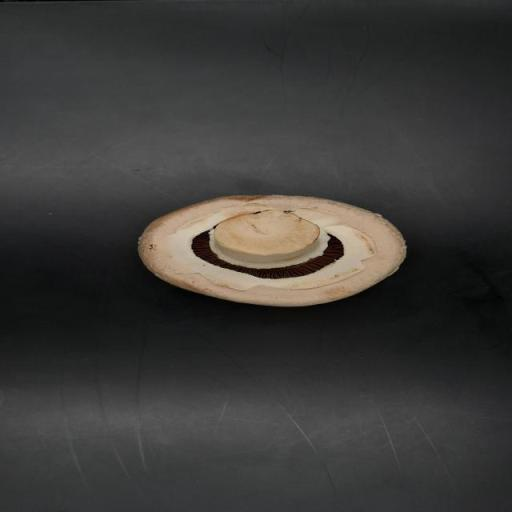mushroom: (140, 195, 407, 304)
